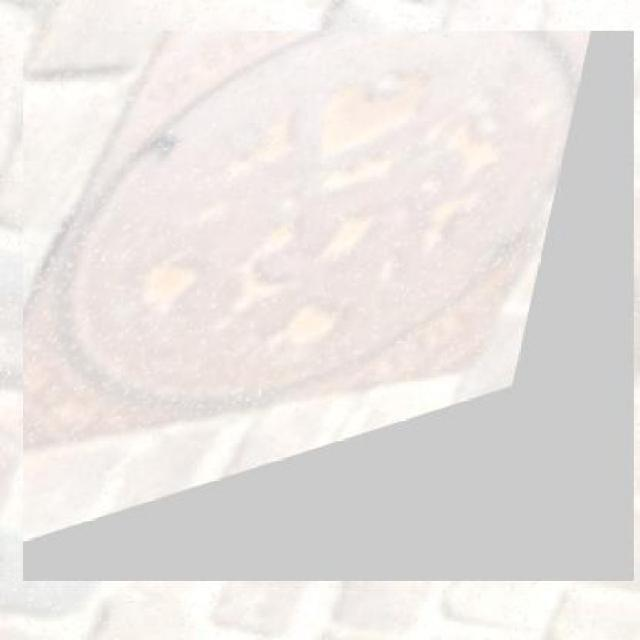Manhole: (23, 31, 634, 580)
